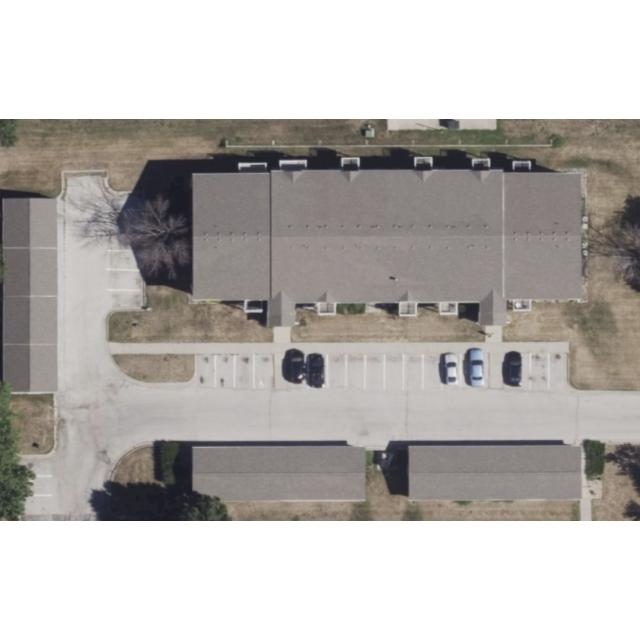Empty: (8, 456, 52, 476), (8, 476, 52, 496), (8, 497, 52, 515), (108, 291, 146, 311), (106, 270, 144, 290), (108, 230, 146, 250), (108, 250, 144, 270), (108, 212, 146, 230), (106, 193, 144, 211), (195, 354, 215, 388), (404, 356, 424, 390), (254, 356, 274, 389), (365, 356, 385, 389), (384, 356, 404, 389), (550, 354, 568, 390), (234, 355, 253, 389), (423, 355, 442, 389), (214, 356, 234, 388), (346, 356, 366, 388), (532, 356, 550, 390), (328, 356, 347, 388)
Parked: (462, 354, 488, 390), (506, 354, 530, 388), (286, 356, 308, 388), (440, 354, 460, 388), (308, 356, 328, 388)
